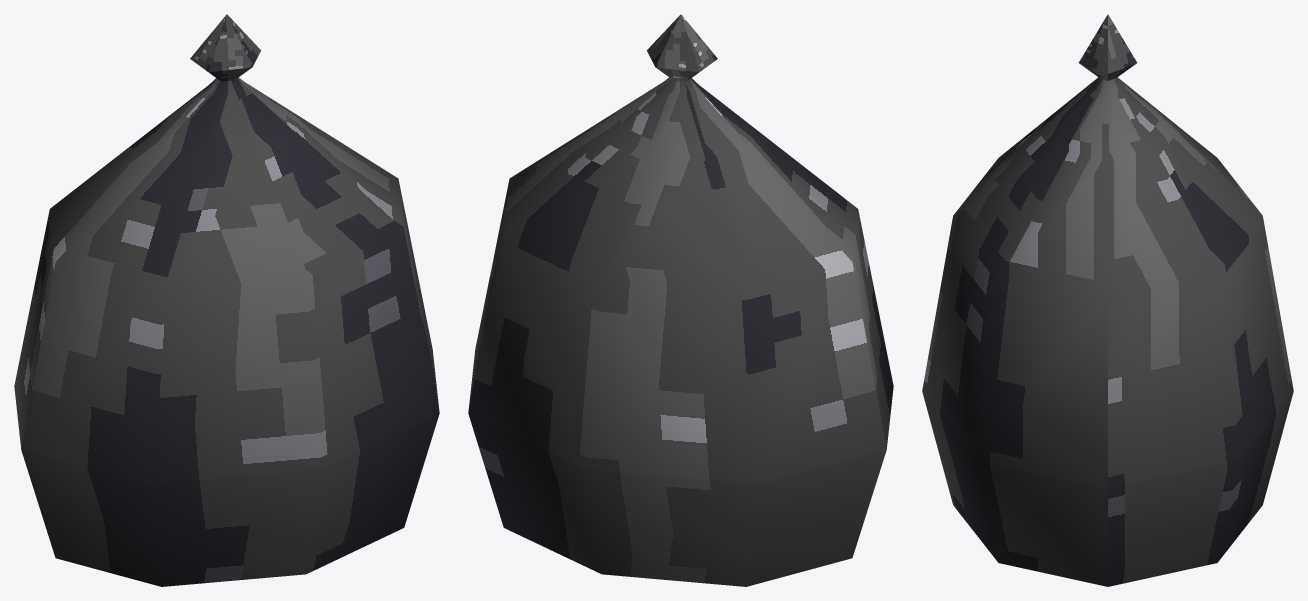
File: trash_bag.glb
3 renders of one model, left to right at view 1: azimuth 30°, elevation 25°; view 2: azimuth 150°, elevation 25°; view 3: azimuth 270°, elevation 25°, orthographic. The views are drawn at different scales.
Visible parts, largest first — view 1: trash_bag; view 2: trash_bag; view 3: trash_bag.
Part boxes in pixels (x1=…): trash_bag: x1=14, y1=14, x2=439, y2=586; trash_bag: x1=468, y1=14, x2=893, y2=586; trash_bag: x1=922, y1=14, x2=1293, y2=586.
Bounding box in the file's own units: 0.48 × 0.58 × 0.384.
Materials: 1 (1 with a texture image).
